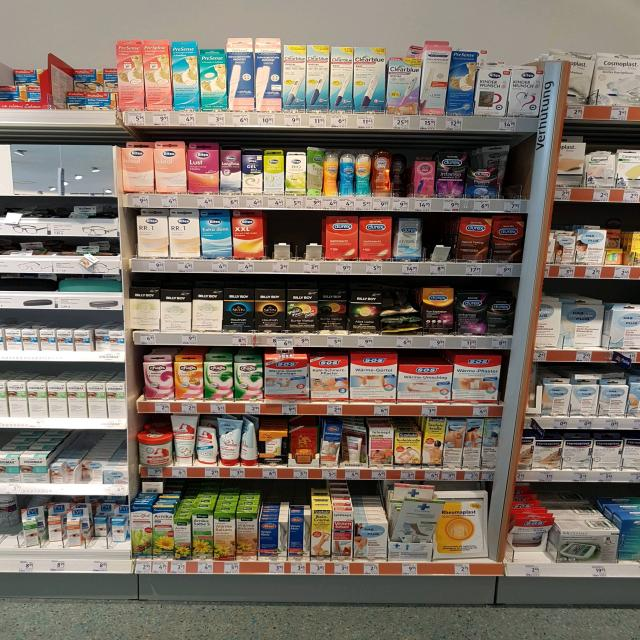empty: (266, 211, 326, 273), (500, 134, 537, 206)
